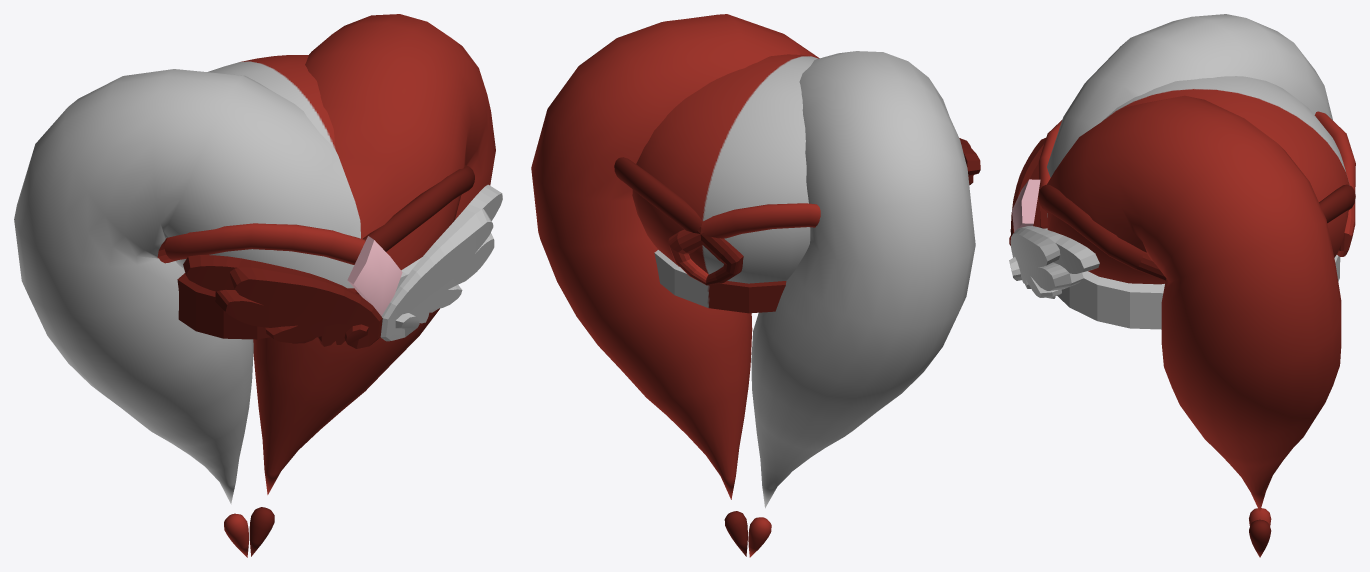
File: Shield.fbx
The picture shows the model from 3 angles, left to right: view 1: azimuth 30°, elevation 25°; view 2: azimuth 150°, elevation 25°; view 3: azimuth 270°, elevation 25°; orthographic projection. The views are drawn at different scales.
Visible parts, largest first — view 1: Punte_cappello, Ali, Bordino_front, Capoccia, Rombo, Punta_cappello; view 2: Punte_cappello, Capoccia, Bordino_front, Punta_cappello; view 3: Punte_cappello, Capoccia, Bordino_front, Ali, Rombo, Punta_cappello.
Part boxes in pixels (x1=…): Punte_cappello: x1=14, y1=14, x2=495, y2=504; Ali: x1=183, y1=184, x2=502, y2=348; Bordino_front: x1=157, y1=165, x2=474, y2=264; Capoccia: x1=208, y1=55, x2=335, y2=148; Rombo: x1=347, y1=236, x2=402, y2=315; Punta_cappello: x1=224, y1=507, x2=274, y2=557; Punte_cappello: x1=531, y1=14, x2=975, y2=508; Capoccia: x1=632, y1=54, x2=818, y2=313; Bordino_front: x1=614, y1=157, x2=820, y2=285; Punta_cappello: x1=724, y1=511, x2=771, y2=557; Punte_cappello: x1=1040, y1=14, x2=1341, y2=511; Capoccia: x1=1102, y1=76, x2=1349, y2=281; Bordino_front: x1=1038, y1=111, x2=1355, y2=281; Ali: x1=1009, y1=138, x2=1099, y2=298; Rombo: x1=1012, y1=179, x2=1040, y2=231; Punta_cappello: x1=1249, y1=508, x2=1271, y2=557.
Bounding box in the file's own units: 2.76 × 3.06 × 1.97.
1 material, 1 textured.
